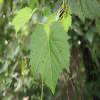grape leaf: (26, 21, 74, 94), (7, 6, 38, 39)
